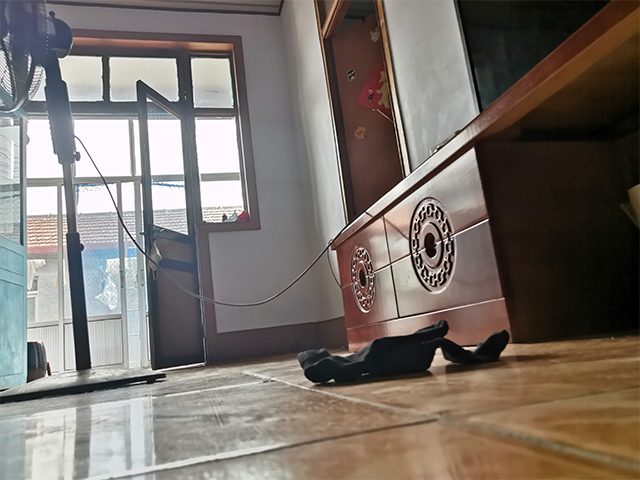cabinet: (328, 1, 639, 358)
socks: (295, 316, 510, 385)
